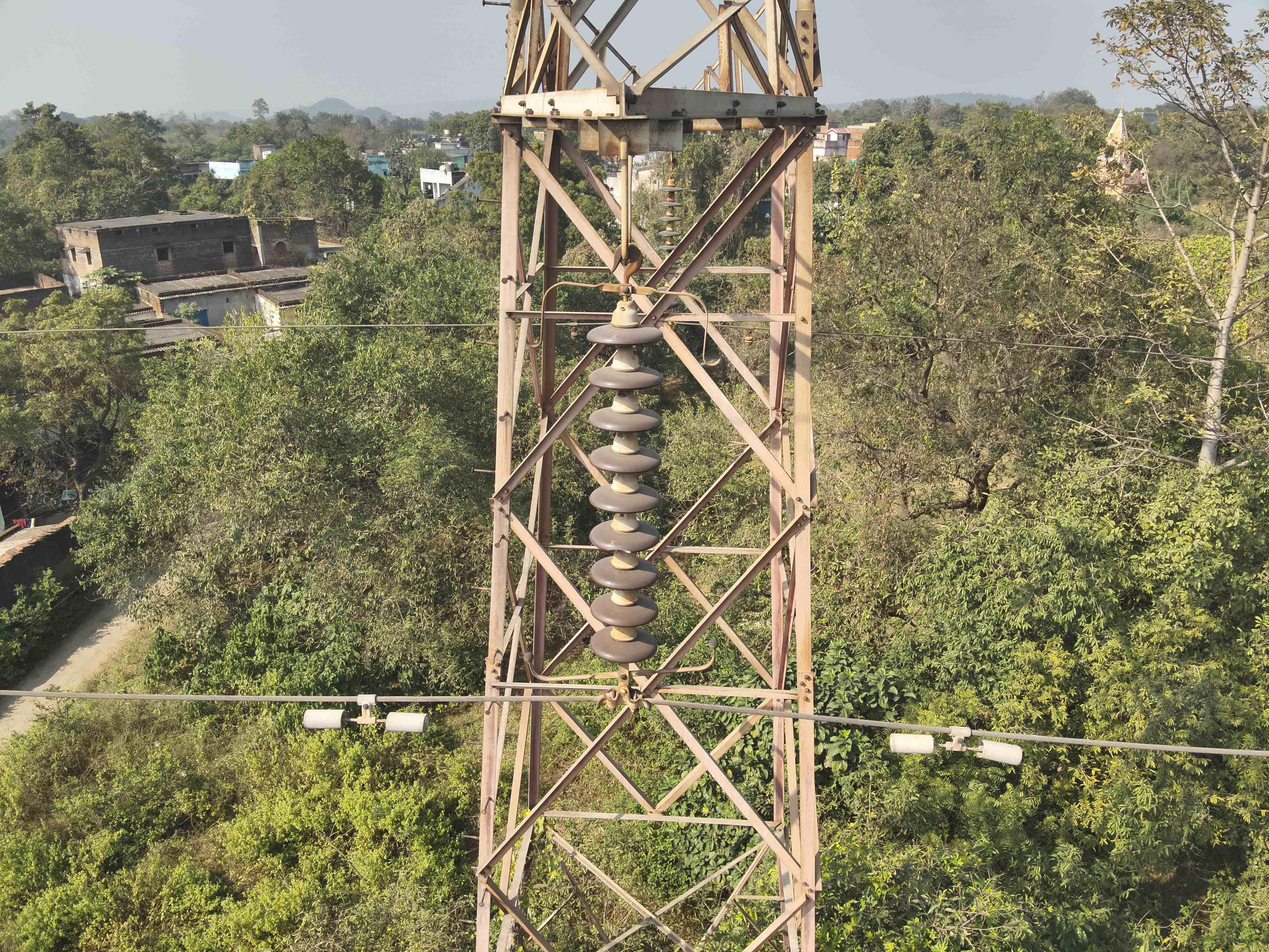broken_insulator: (589, 516, 662, 557)
